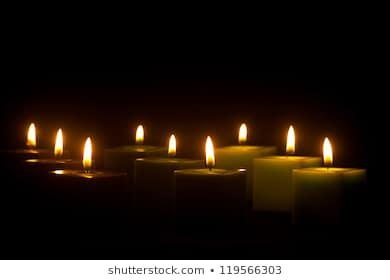fire: (203, 134, 217, 166), (321, 133, 335, 165), (284, 121, 297, 154), (81, 134, 94, 167), (26, 120, 38, 150), (52, 127, 64, 155), (237, 120, 248, 143), (168, 131, 177, 155)
